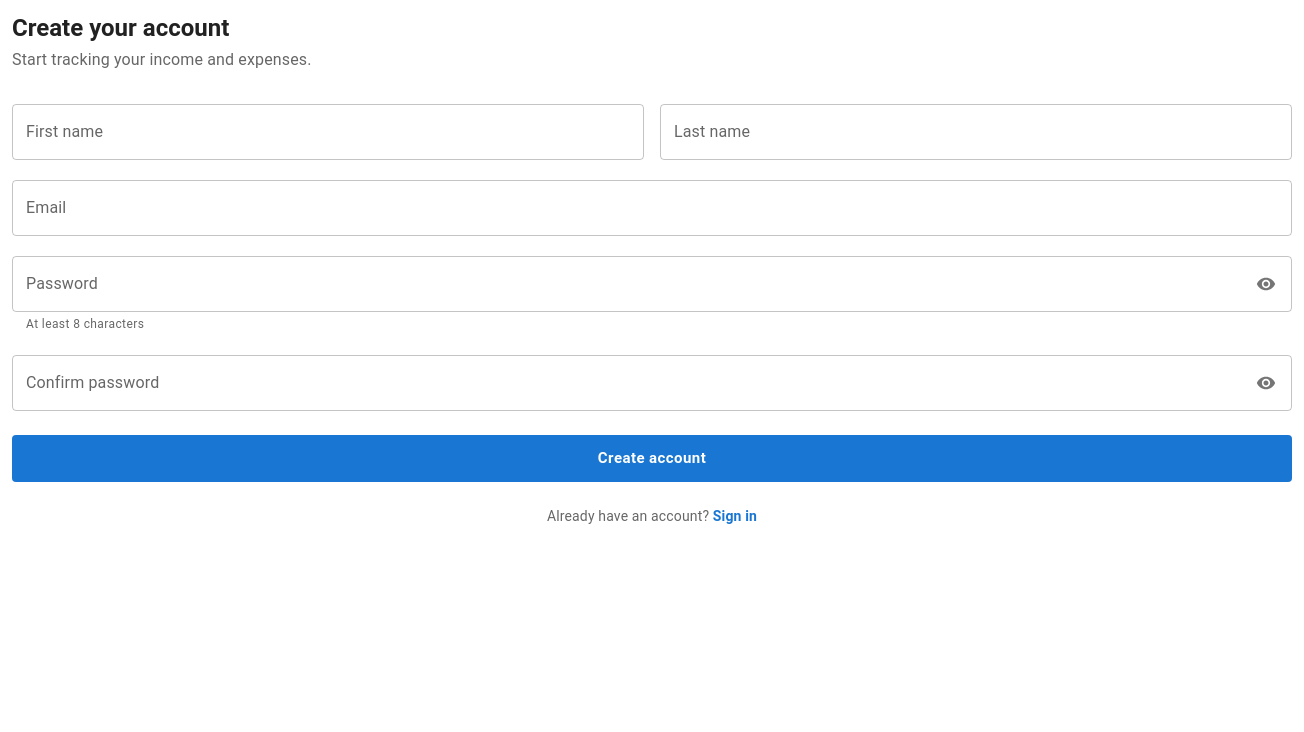
Test case: Register page › validates every field before sending
Click the button "Create account" at (652, 458), box [12,435,1292,482]
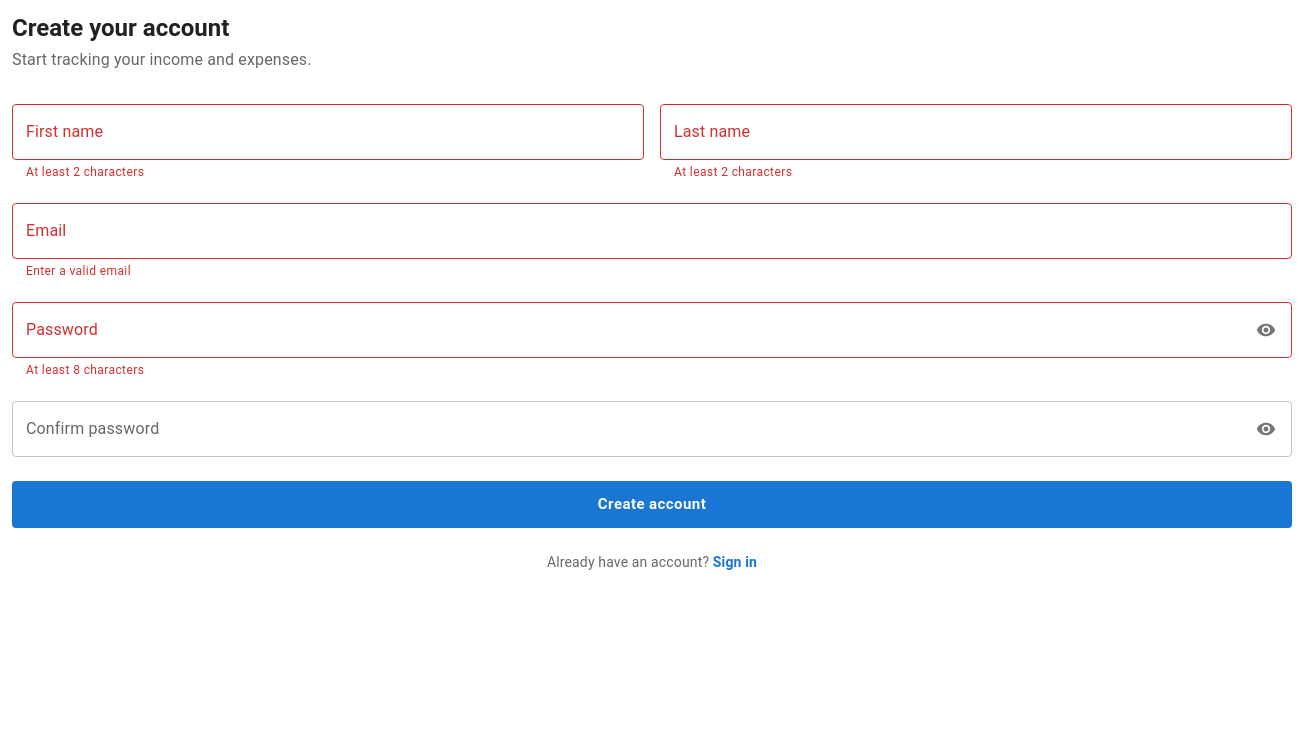
Check: the text "At least 2 characters" is shown 2 times, box [26,165,144,179]; [674,165,792,179]
Check: the text "Enter a valid email" is shown, box [26,264,131,278]
